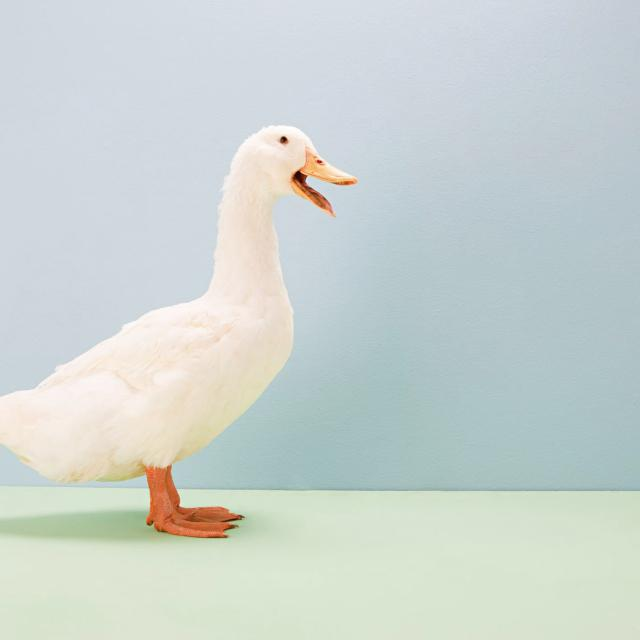duck: (0, 126, 358, 537)
